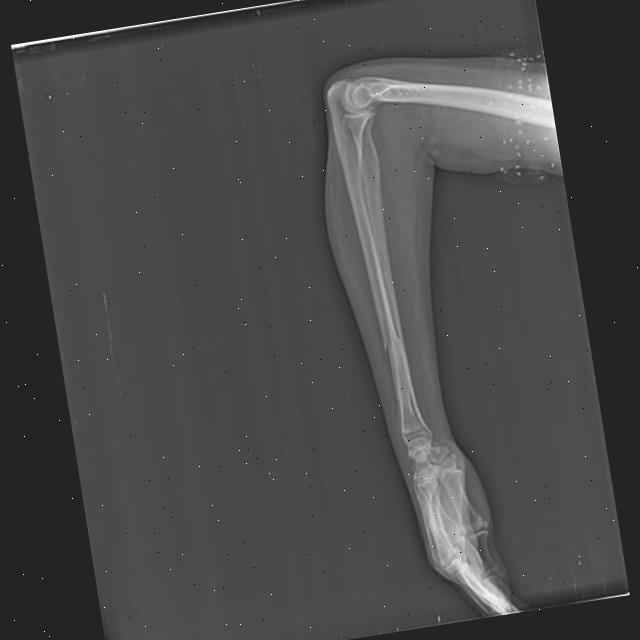Fracture: (379, 330, 405, 356)
